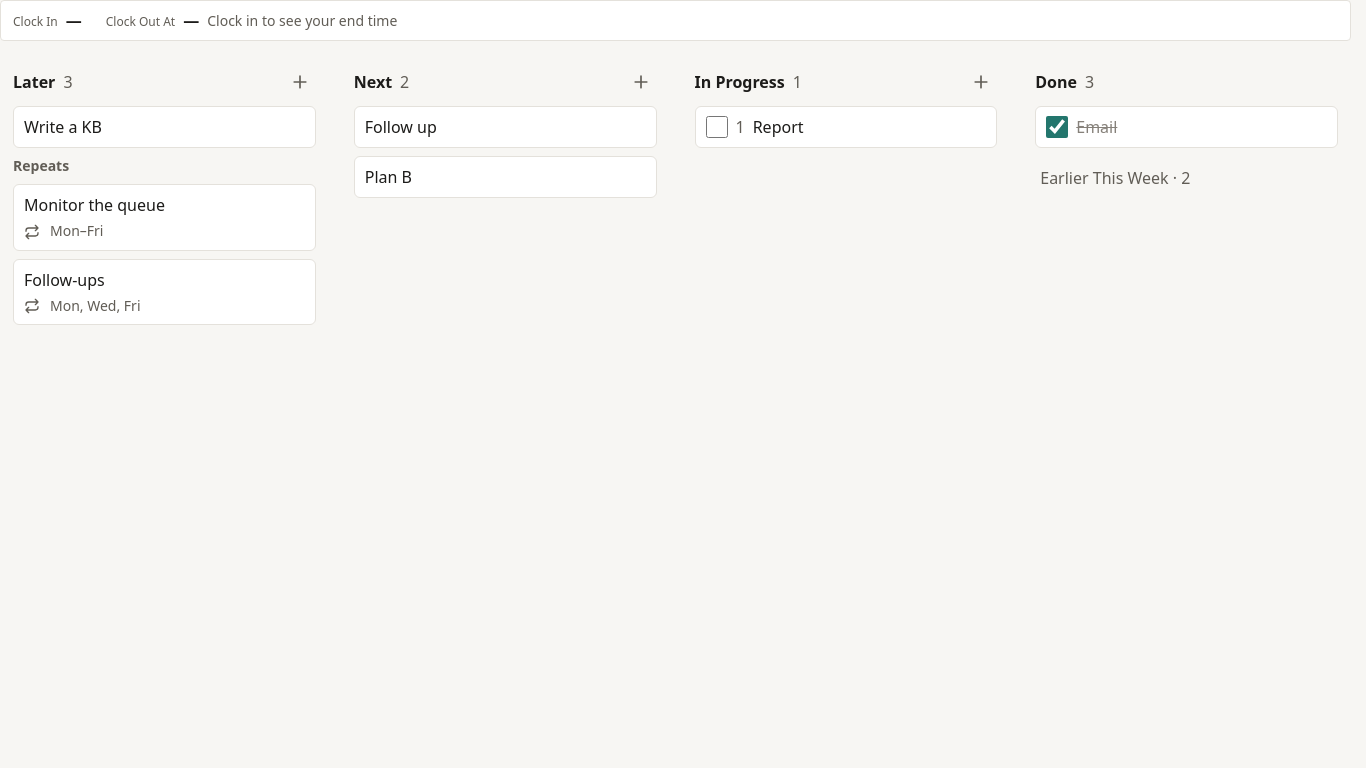
Scenario: repeating › makes today's row repeat, keeping its dialog open, and reads today again
Click the button "Report" at (870, 127), box [753,115,986,139]
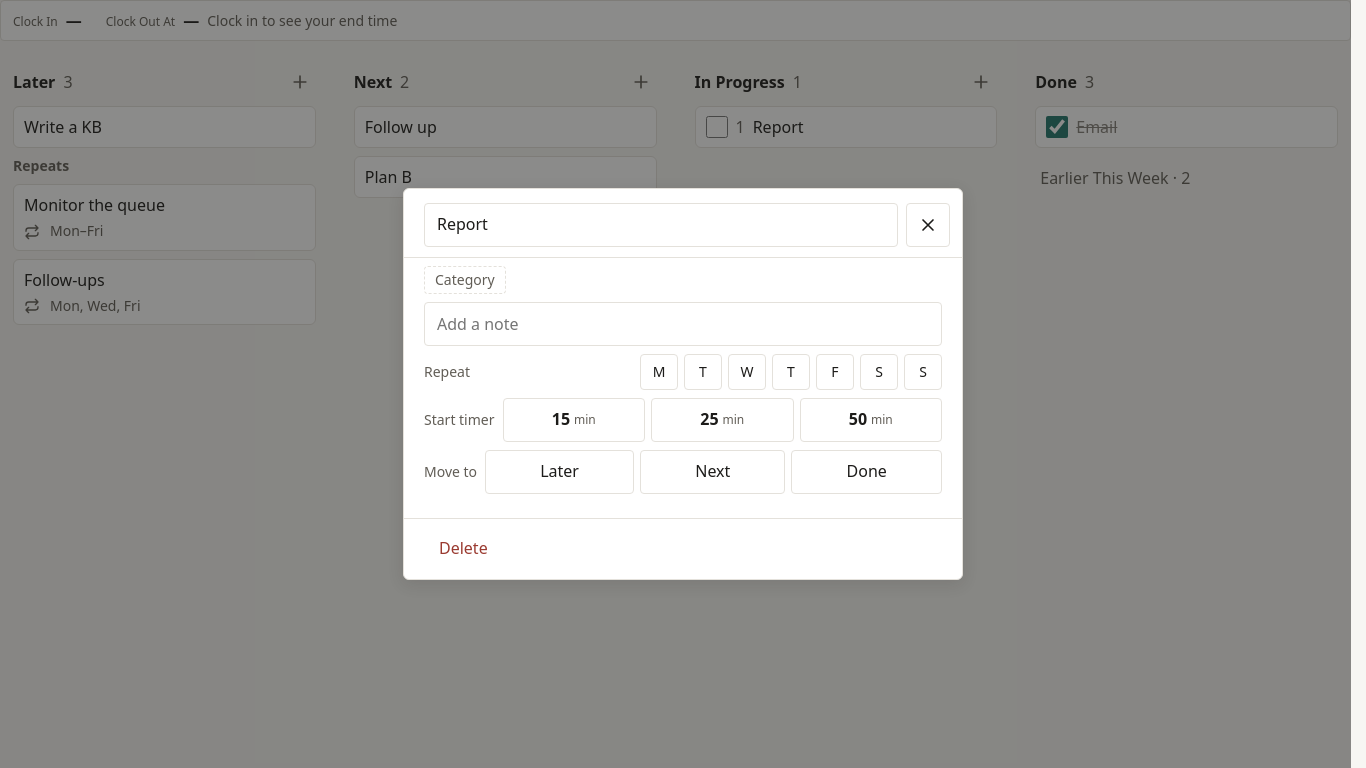
Check: the button "Delete" is shown, box [424,527,503,571]
Click the button named "Friday" at (835, 372), box [816,354,854,390]
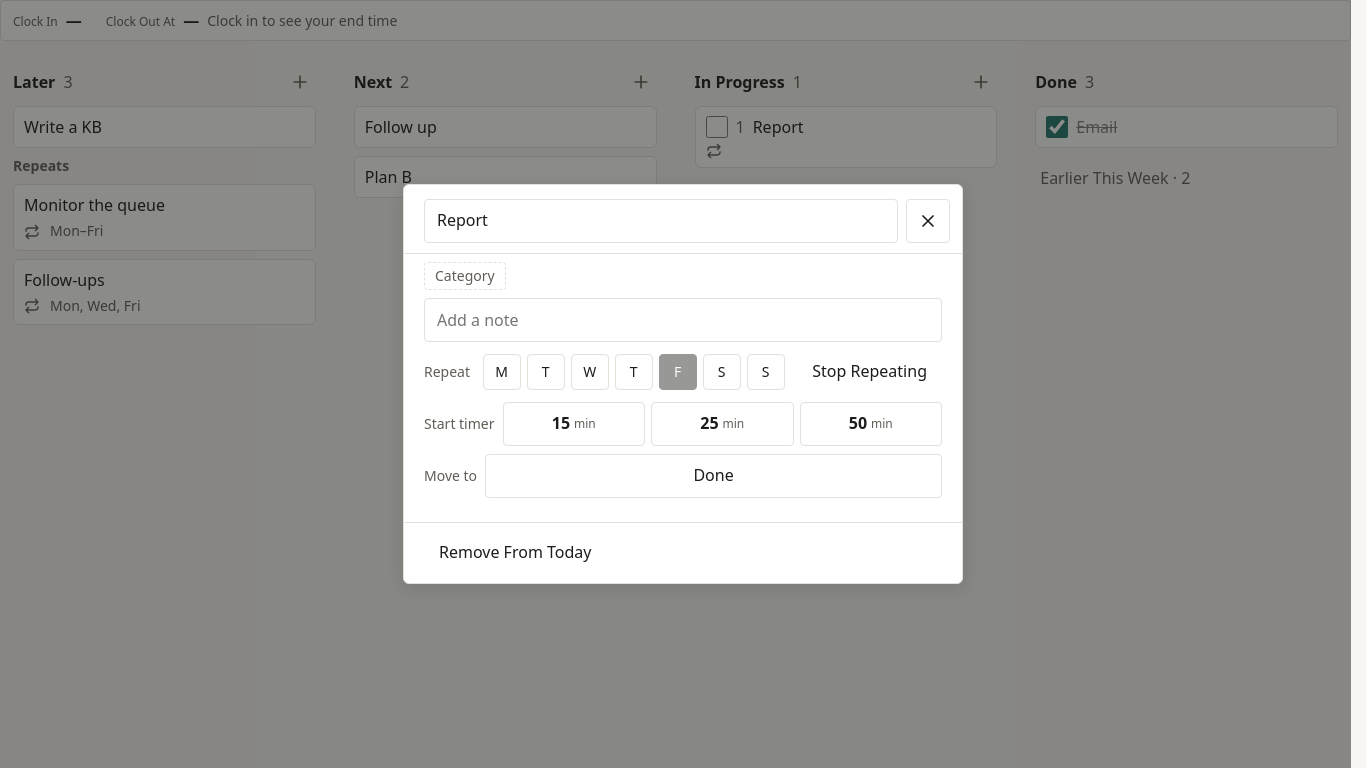
Check: the button "Delete" is gone
Check: the button "Remove From Today" is shown, box [424,531,606,575]
Check: the picture named "Repeats" is shown, box [706,143,722,159]
